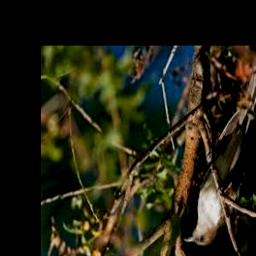Cuckoo: (184, 70, 256, 246)
